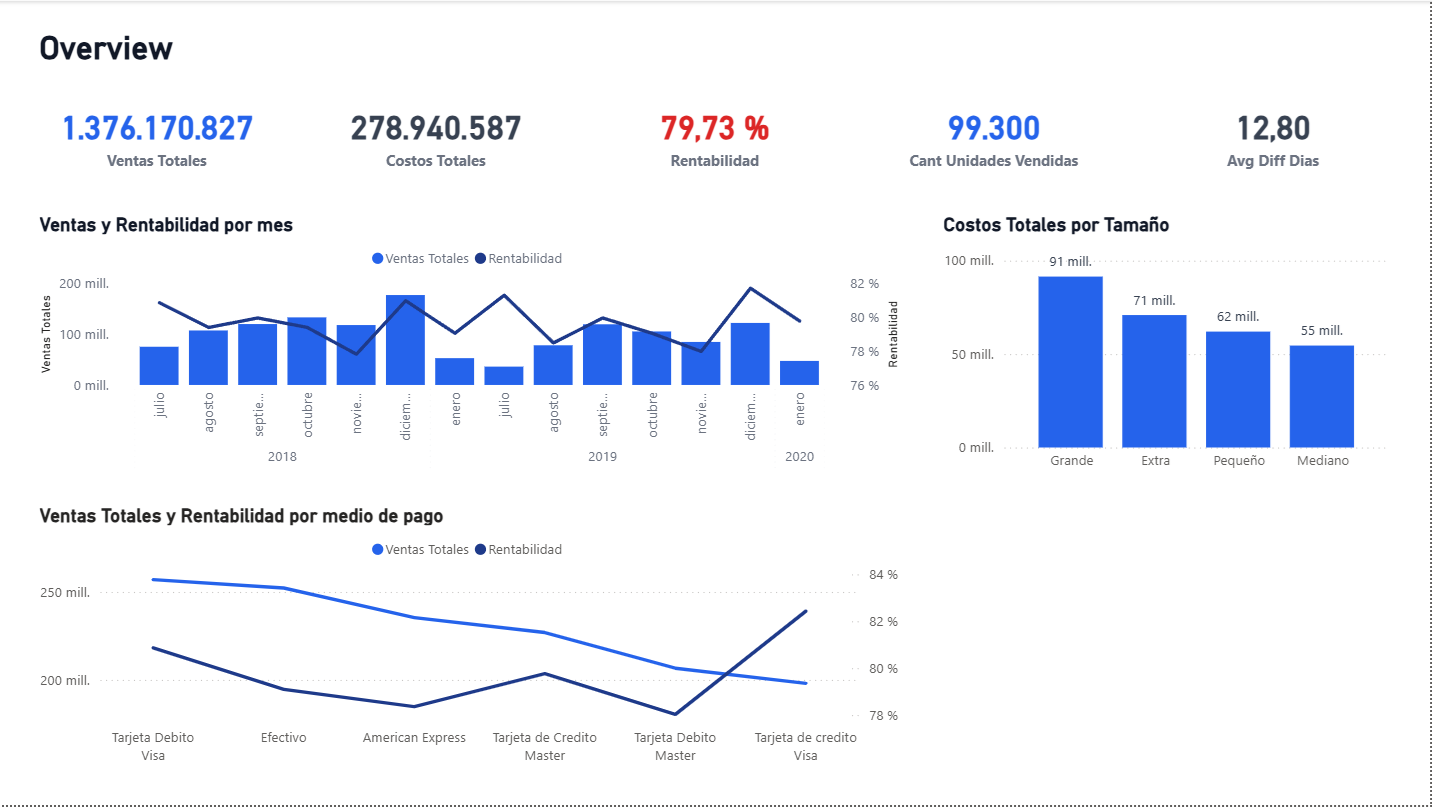

The page's visual inventory and layout, read from the dashboard file:
{"tool":"powerbi","page":{"name":"Overview","canvas":[1280,720],"ordinal":0},"visuals":[{"type":"card","fields":{"Values":["Cliente.Ventas Totales"]},"box":[30,80,220,80],"z":0},{"type":"card","fields":{"Values":["Cliente.Costos Totales"]},"box":[280,80,220,80],"z":1000},{"type":"card","fields":{"Values":["Metodos de Pago.Rentabilidad"]},"box":[530,80,220,80],"z":2000},{"type":"card","fields":{"Values":["Ventas.Avg Diff Dias"]},"box":[1030,80,220,80],"z":3000},{"type":"card","fields":{"Values":["Ventas.Cant Unidades Vendidas"]},"box":[780,80,220,80],"z":4000},{"type":"lineStackedColumnComboChart","title":"Ventas y Rentabilidad por mes","fields":{"Y":["Medidas.Ventas Totales"],"Y2":["Medidas.Rentabilidad"],"Category":["Calendario.Fecha.Variación.Jerarquía de fechas.Año","Calendario.Fecha.Variación.Jerarquía de fechas.Mes"]},"box":[30,190,780,240],"z":5000},{"type":"lineChart","title":"Ventas Totales y Rentabilidad por medio de pago","fields":{"Y":["Medidas.Ventas Totales"],"Category":["Metodos de Pago.Descripción"],"Y2":["Medidas.Rentabilidad"]},"box":[30,450,780,240],"z":6000},{"type":"clusteredColumnChart","title":"Costos Totales por Tamaño","fields":{"Y":["Medidas.Costos Totales"],"Category":["Producto.Tamaño "]},"box":[840,190,410,240],"z":7000},{"type":"textbox","box":[30.4,19.7,300,47.5],"z":8000}]}

Visuals, with their boxes in screenshot pixels (x1, y1, x2, y2), scaled from the page's 1280x720 canvas onto the 1432x807 screenshot:
card - Cliente.Ventas Totales: <region>34, 90, 280, 179</region>
card - Cliente.Costos Totales: <region>313, 90, 559, 179</region>
card - Metodos de Pago.Rentabilidad: <region>593, 90, 839, 179</region>
card - Ventas.Avg Diff Dias: <region>1152, 90, 1398, 179</region>
card - Ventas.Cant Unidades Vendidas: <region>873, 90, 1119, 179</region>
"Ventas y Rentabilidad por mes" lineStackedColumnComboChart: <region>34, 213, 906, 482</region>
"Ventas Totales y Rentabilidad por medio de pago" lineChart: <region>34, 504, 906, 773</region>
"Costos Totales por Tamaño" clusteredColumnChart: <region>940, 213, 1398, 482</region>
textbox: <region>34, 22, 370, 75</region>
